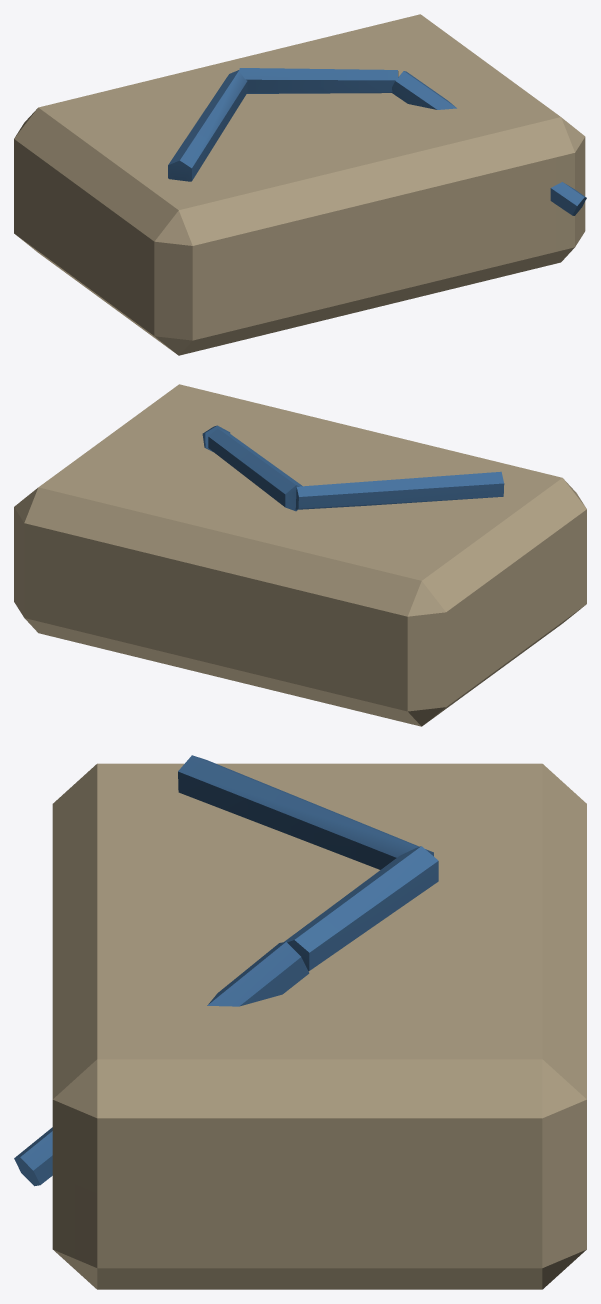
The model's file is thread_clue.glb.
The picture shows the model from 3 angles, top to bottom: view 1: azimuth 30°, elevation 25°; view 2: azimuth 150°, elevation 25°; view 3: azimuth 270°, elevation 25°; orthographic projection. The views are drawn at different scales.
Parts seen in each view (by area): view 1: thread_clue; view 2: thread_clue; view 3: thread_clue.
Boxes of the visible parts, x1=… form: thread_clue: x1=14, y1=14, x2=586, y2=355; thread_clue: x1=14, y1=384, x2=586, y2=726; thread_clue: x1=14, y1=755, x2=586, y2=1289.
Bounding box in the file's own units: 0.62 × 0.238 × 0.4504.
